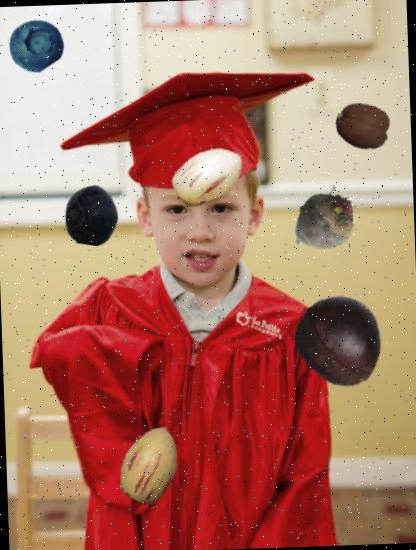Apricot: (335, 99, 391, 155)
Beetroot: (284, 182, 365, 264)
Blueberry: (61, 184, 124, 247)
Chestnut: (294, 294, 390, 390)
Huckleberry: (8, 17, 65, 74)
Pepino: (169, 136, 250, 218), (111, 424, 192, 504)
